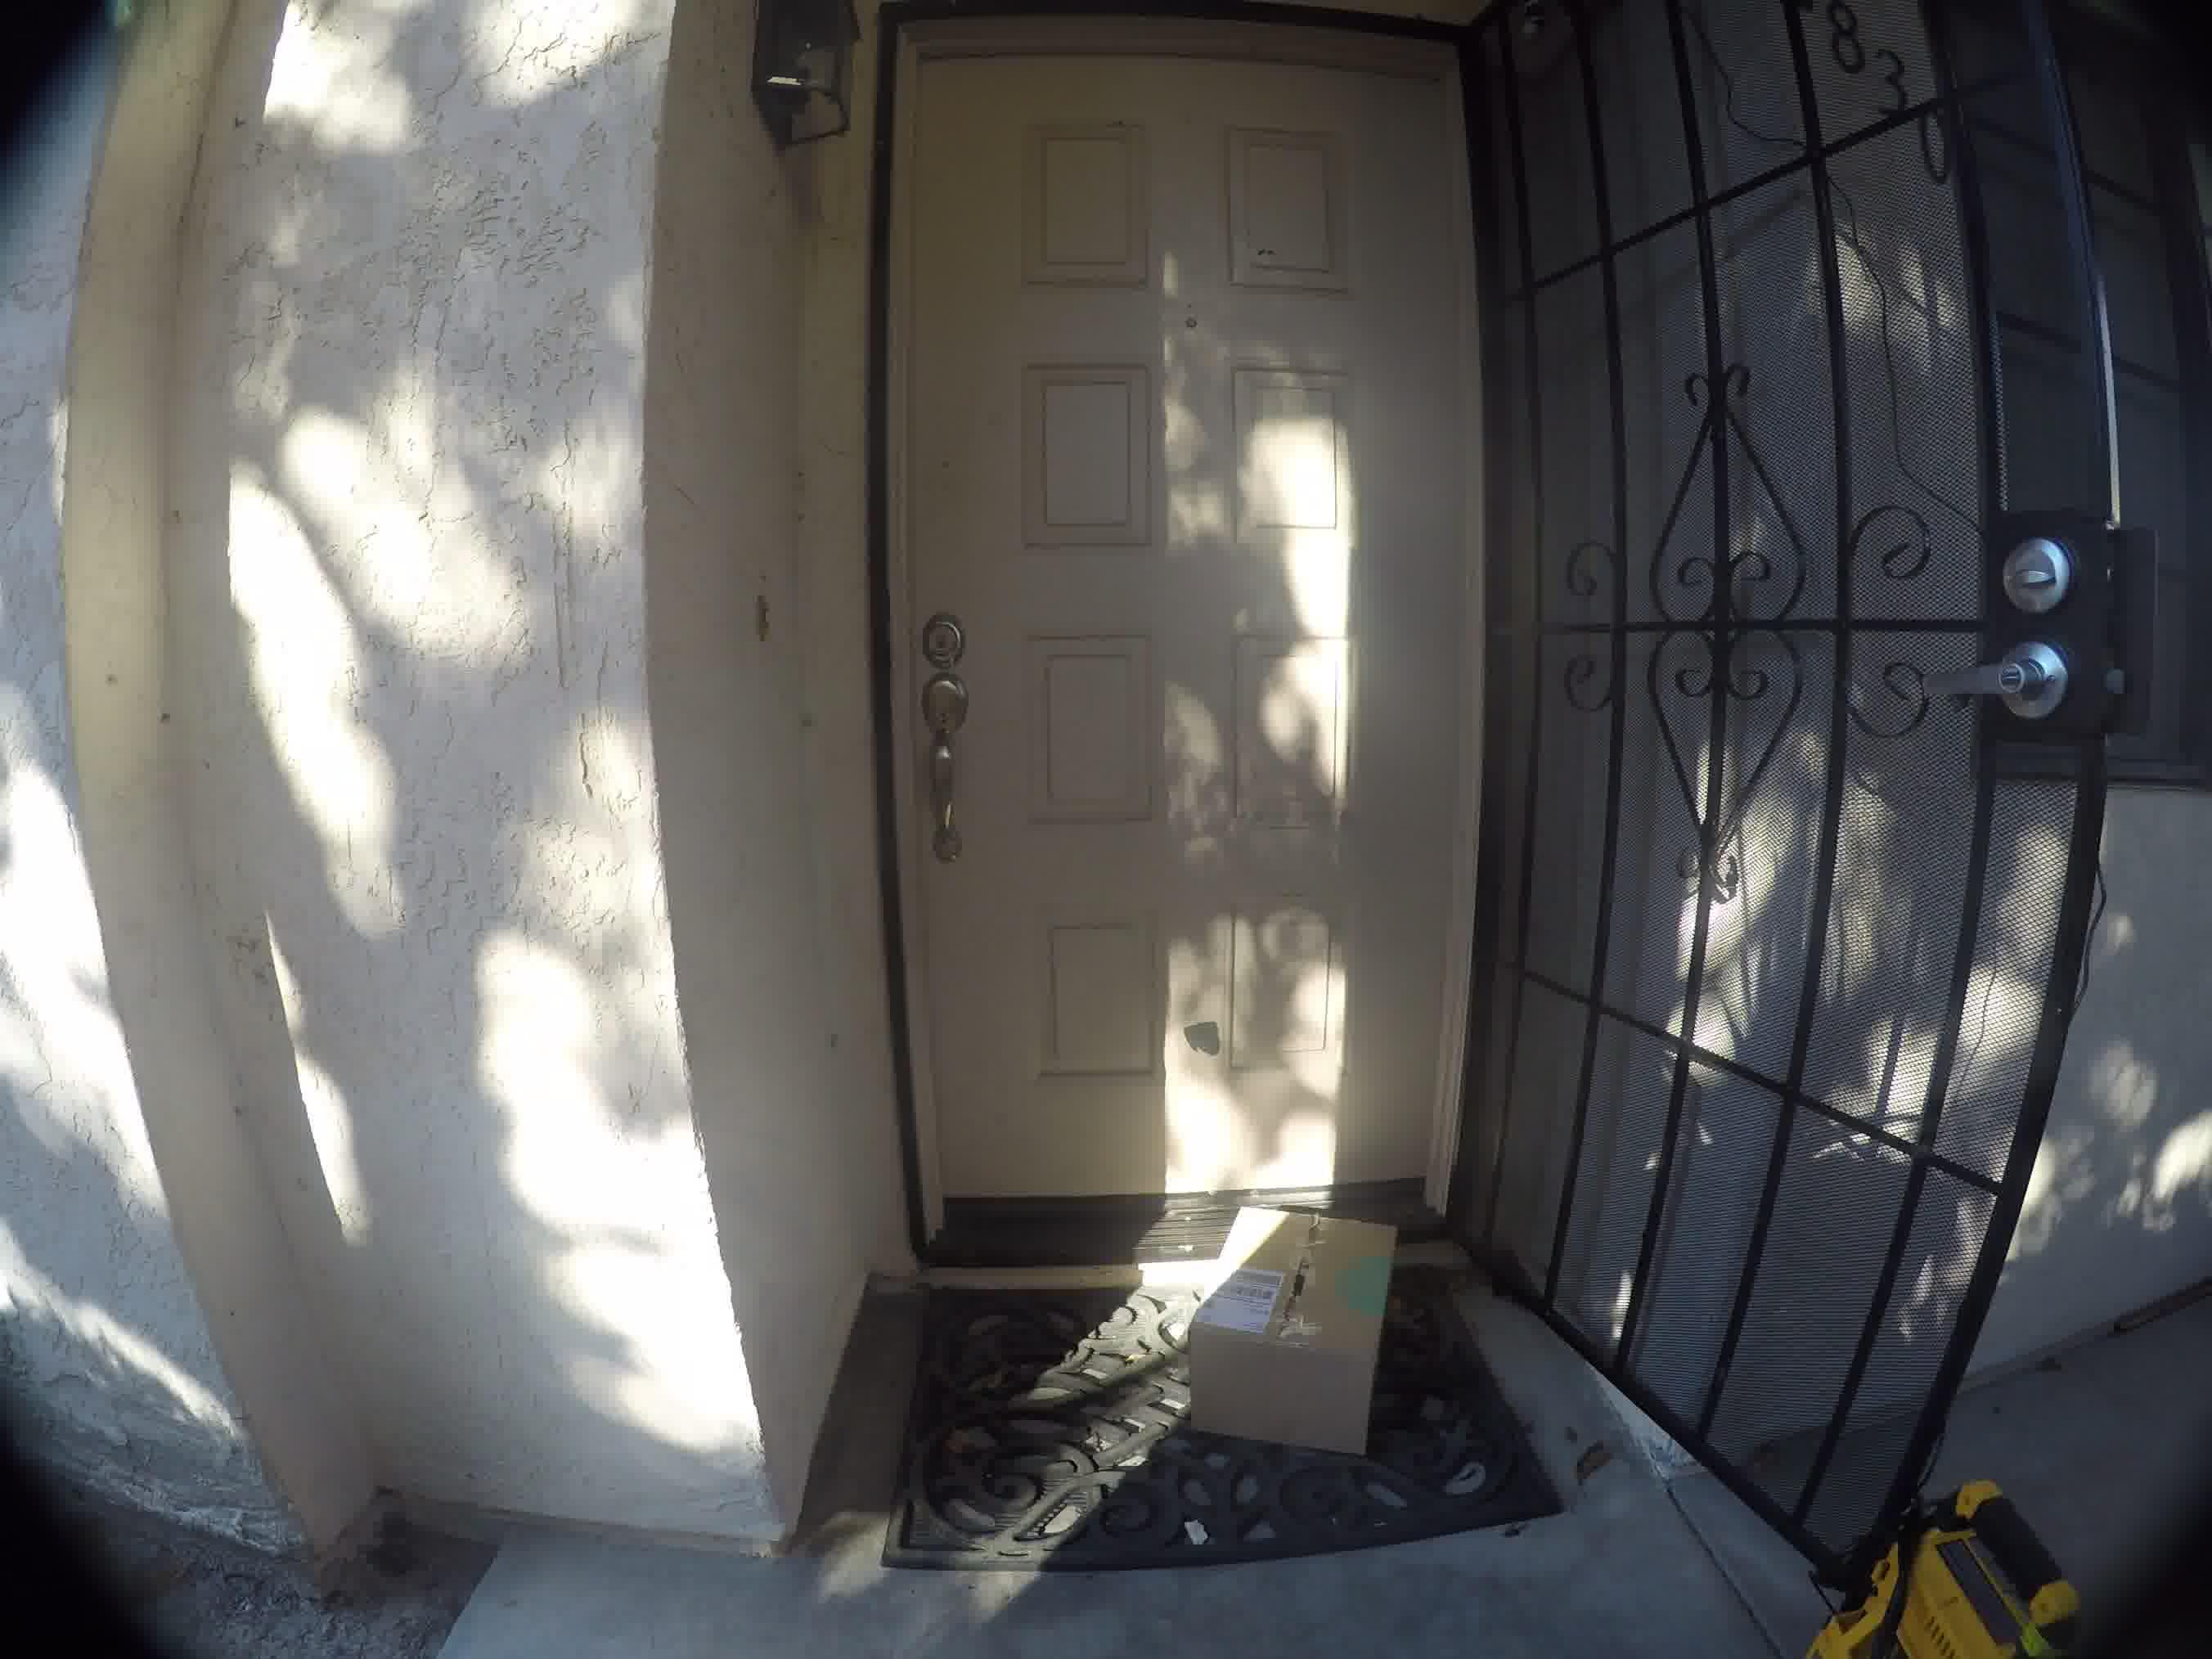box: (1197, 1152, 1399, 1459)
